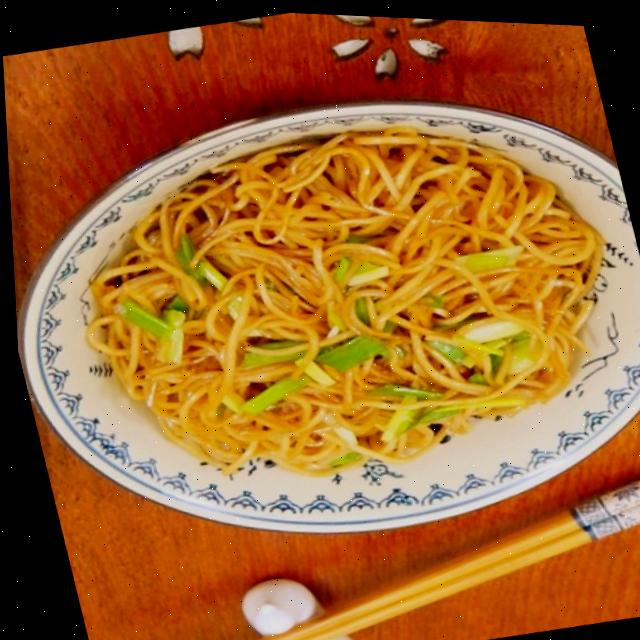面条主食: (1, 17, 640, 608)
